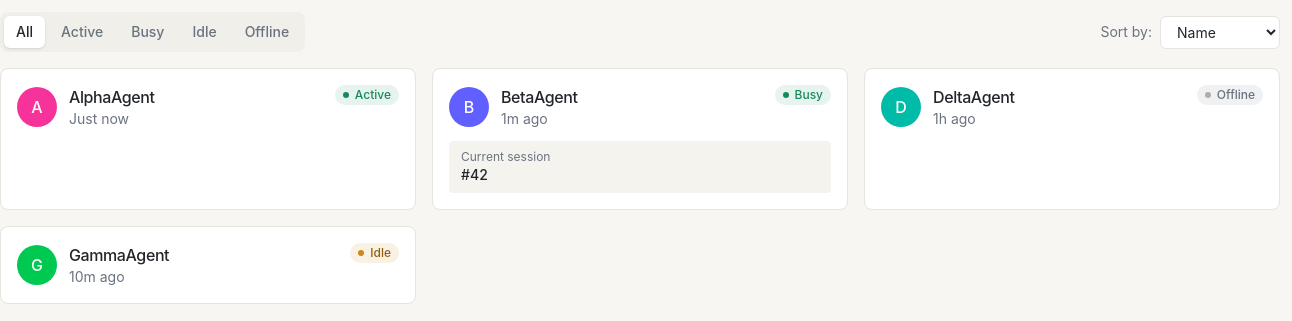
Scenario: AgentCardGrid › filters agents by status
# Click Active filter.
Step 1. Click the button "Active" → point(82, 32), box [49, 16, 115, 48]
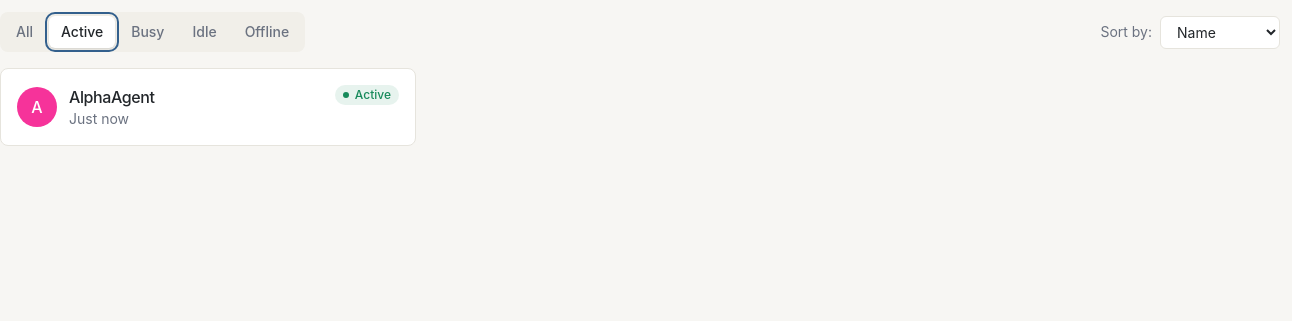
Expected: the heading "BetaAgent" is gone
Expected: the heading "GammaAgent" is gone
Expected: the heading "DeltaAgent" is gone
